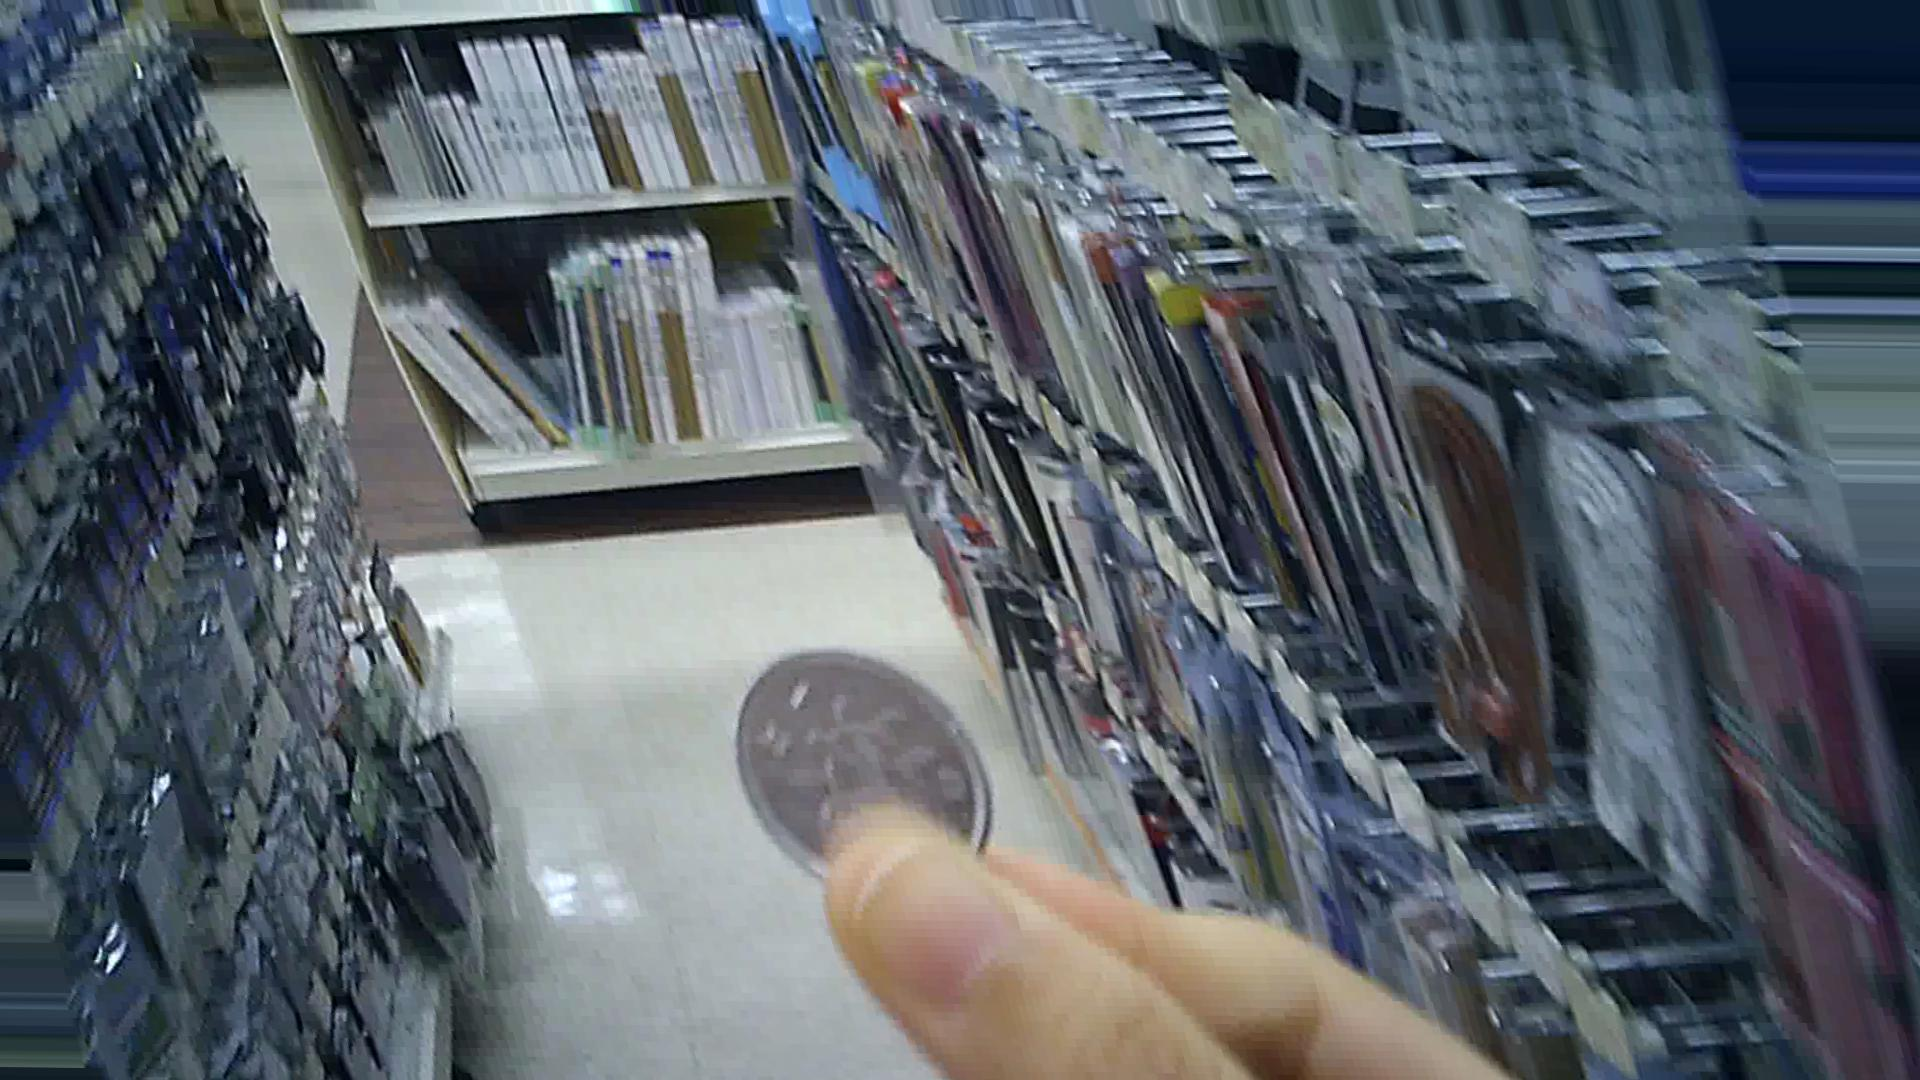1 Yen: (721, 642, 1011, 884)
